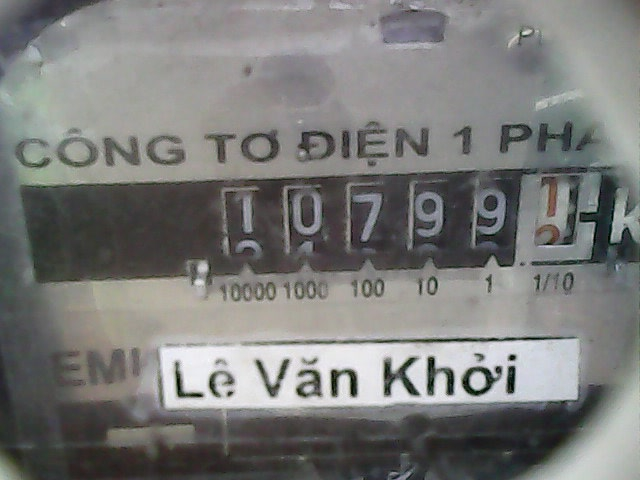phy_plate: (213, 166, 607, 275)
